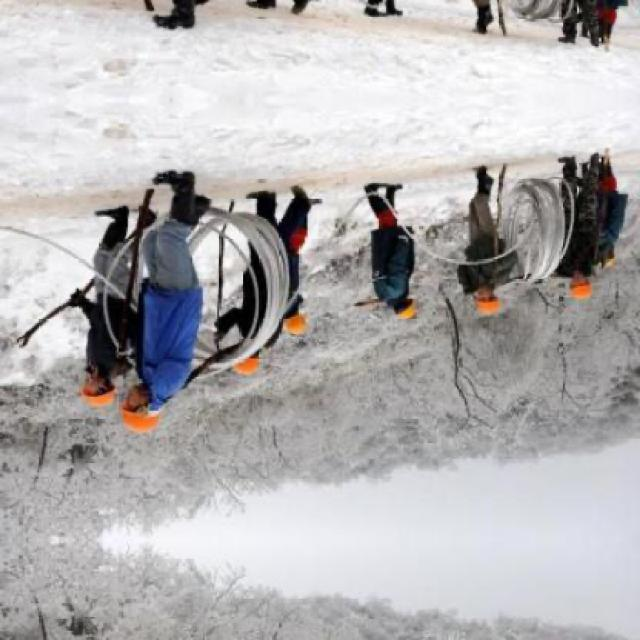con casco: (120, 364, 180, 436), (546, 266, 612, 312), (80, 362, 136, 413), (224, 331, 270, 380), (284, 294, 316, 338), (391, 297, 432, 324), (469, 285, 491, 324)
